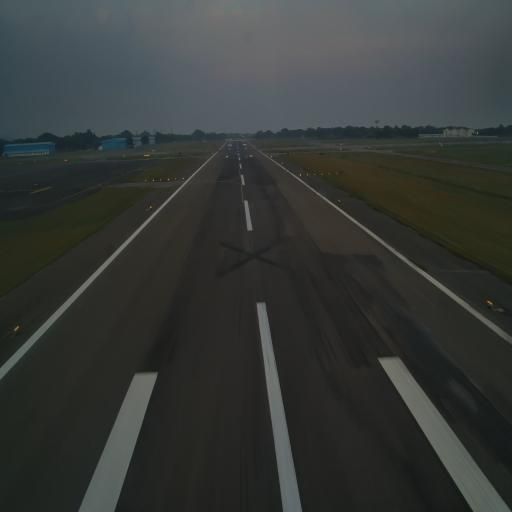on: (484, 294, 495, 311), (13, 321, 19, 336), (149, 205, 153, 211), (338, 198, 341, 205)
